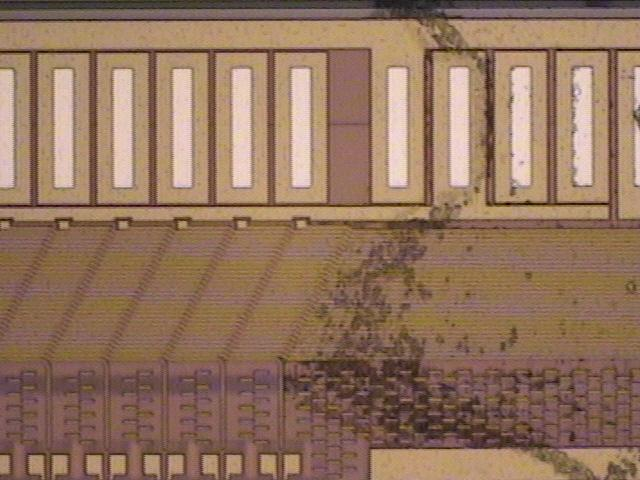PO CONTAMINATION: (285, 2, 640, 480)
